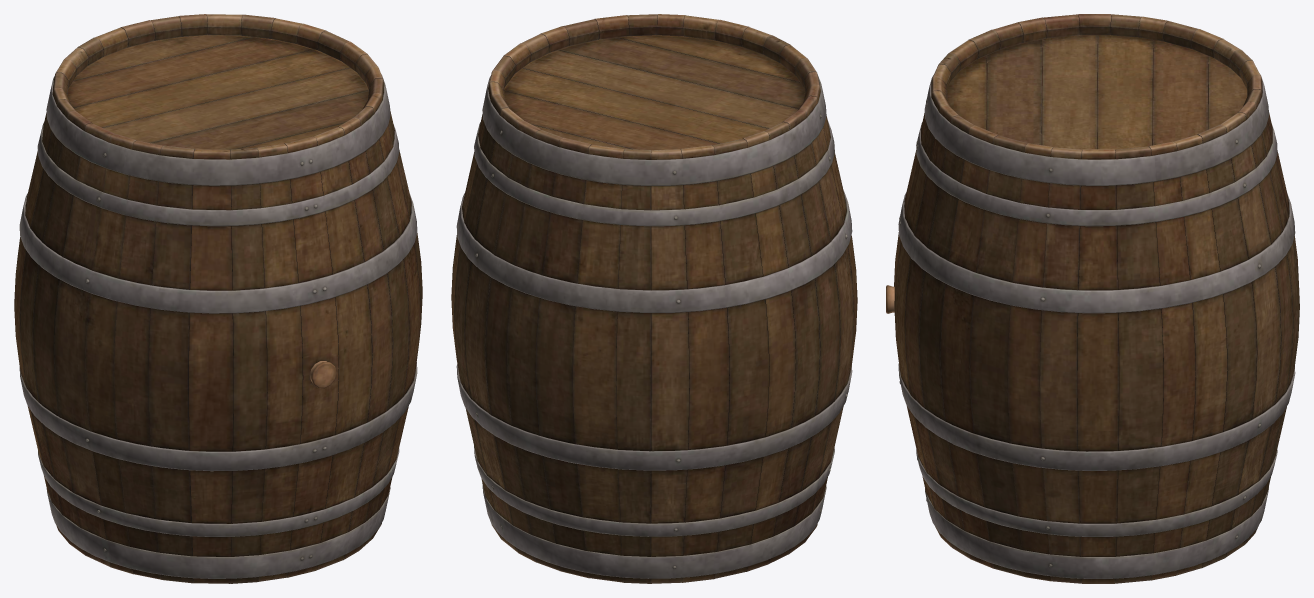
File: wine_barrel_01_4k.gltf
3 renders of one model, left to right at view 1: azimuth 30°, elevation 25°; view 2: azimuth 150°, elevation 25°; view 3: azimuth 270°, elevation 25°, orthographic.
Parts seen in each view (by area): view 1: wine_barrel_01, wine_barrel_01_Lid, wine_barrel_01_bung; view 2: wine_barrel_01, wine_barrel_01_Lid; view 3: wine_barrel_01, wine_barrel_01_Lid.
Part boxes in pixels (left/top/right/bottom): wine_barrel_01: left=14, top=14, right=422, bottom=583; wine_barrel_01_Lid: left=67, top=35, right=368, bottom=149; wine_barrel_01_bung: left=310, top=361, right=336, bottom=388; wine_barrel_01: left=451, top=14, right=857, bottom=583; wine_barrel_01_Lid: left=503, top=35, right=805, bottom=152; wine_barrel_01: left=894, top=14, right=1299, bottom=583; wine_barrel_01_Lid: left=946, top=35, right=1247, bottom=149.
Size of the model in its own units: 0.7419 by 0.8713 by 0.756.
1 material, 1 textured.
